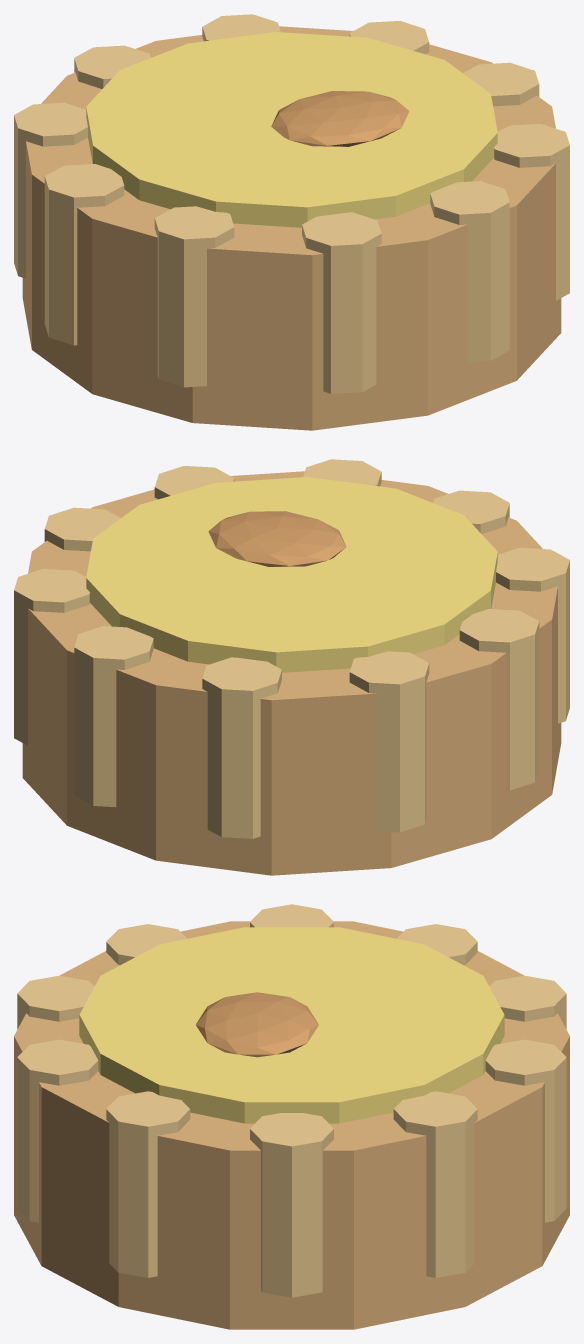
The model's file is Eggtart.glb.
3 renders of one model, top to bottom at view 1: azimuth 30°, elevation 25°; view 2: azimuth 150°, elevation 25°; view 3: azimuth 270°, elevation 25°, orthographic. The views are drawn at different scales.
Visible parts, largest first — view 1: Visual; view 2: Visual; view 3: Visual.
Boxes of the visible parts, bbox=[...] form: Visual: bbox=[14, 14, 569, 430]; Visual: bbox=[14, 459, 569, 875]; Visual: bbox=[14, 904, 569, 1329].
Size of the model in its own units: 0.464 by 0.194 by 0.45.
